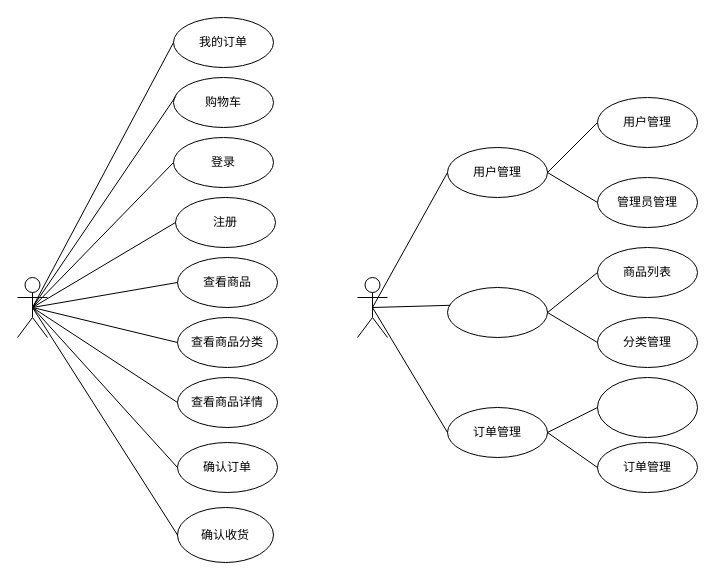
Some shapes in this 715 by 580 pixel diagram are drawn without their labels. Here are the shapes that lost their labels. From the top down, the centre of each, then its label:
the point at 32,307: 用户
the point at 372,307: 后台管理员
the point at 497,312: 商品管理
the point at 647,407: 订单列表
